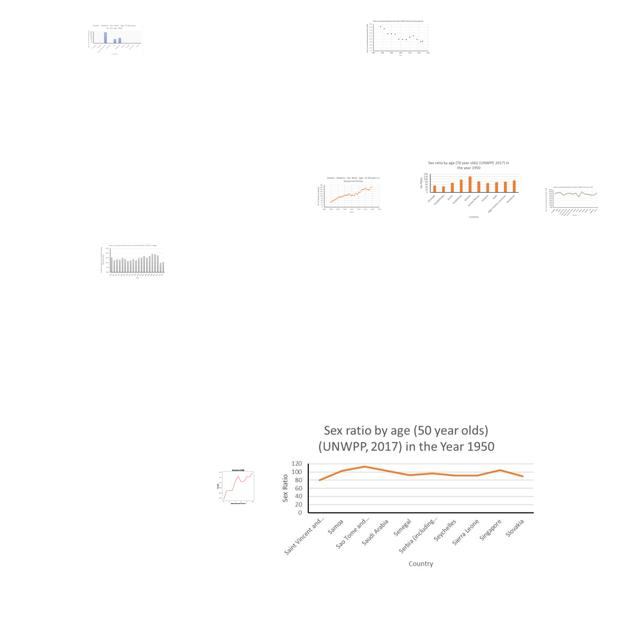Graph: (273, 420, 539, 569), (417, 159, 521, 219), (365, 19, 431, 58), (316, 176, 382, 214), (100, 243, 166, 280), (86, 23, 143, 57), (212, 467, 263, 505), (545, 186, 599, 217)
